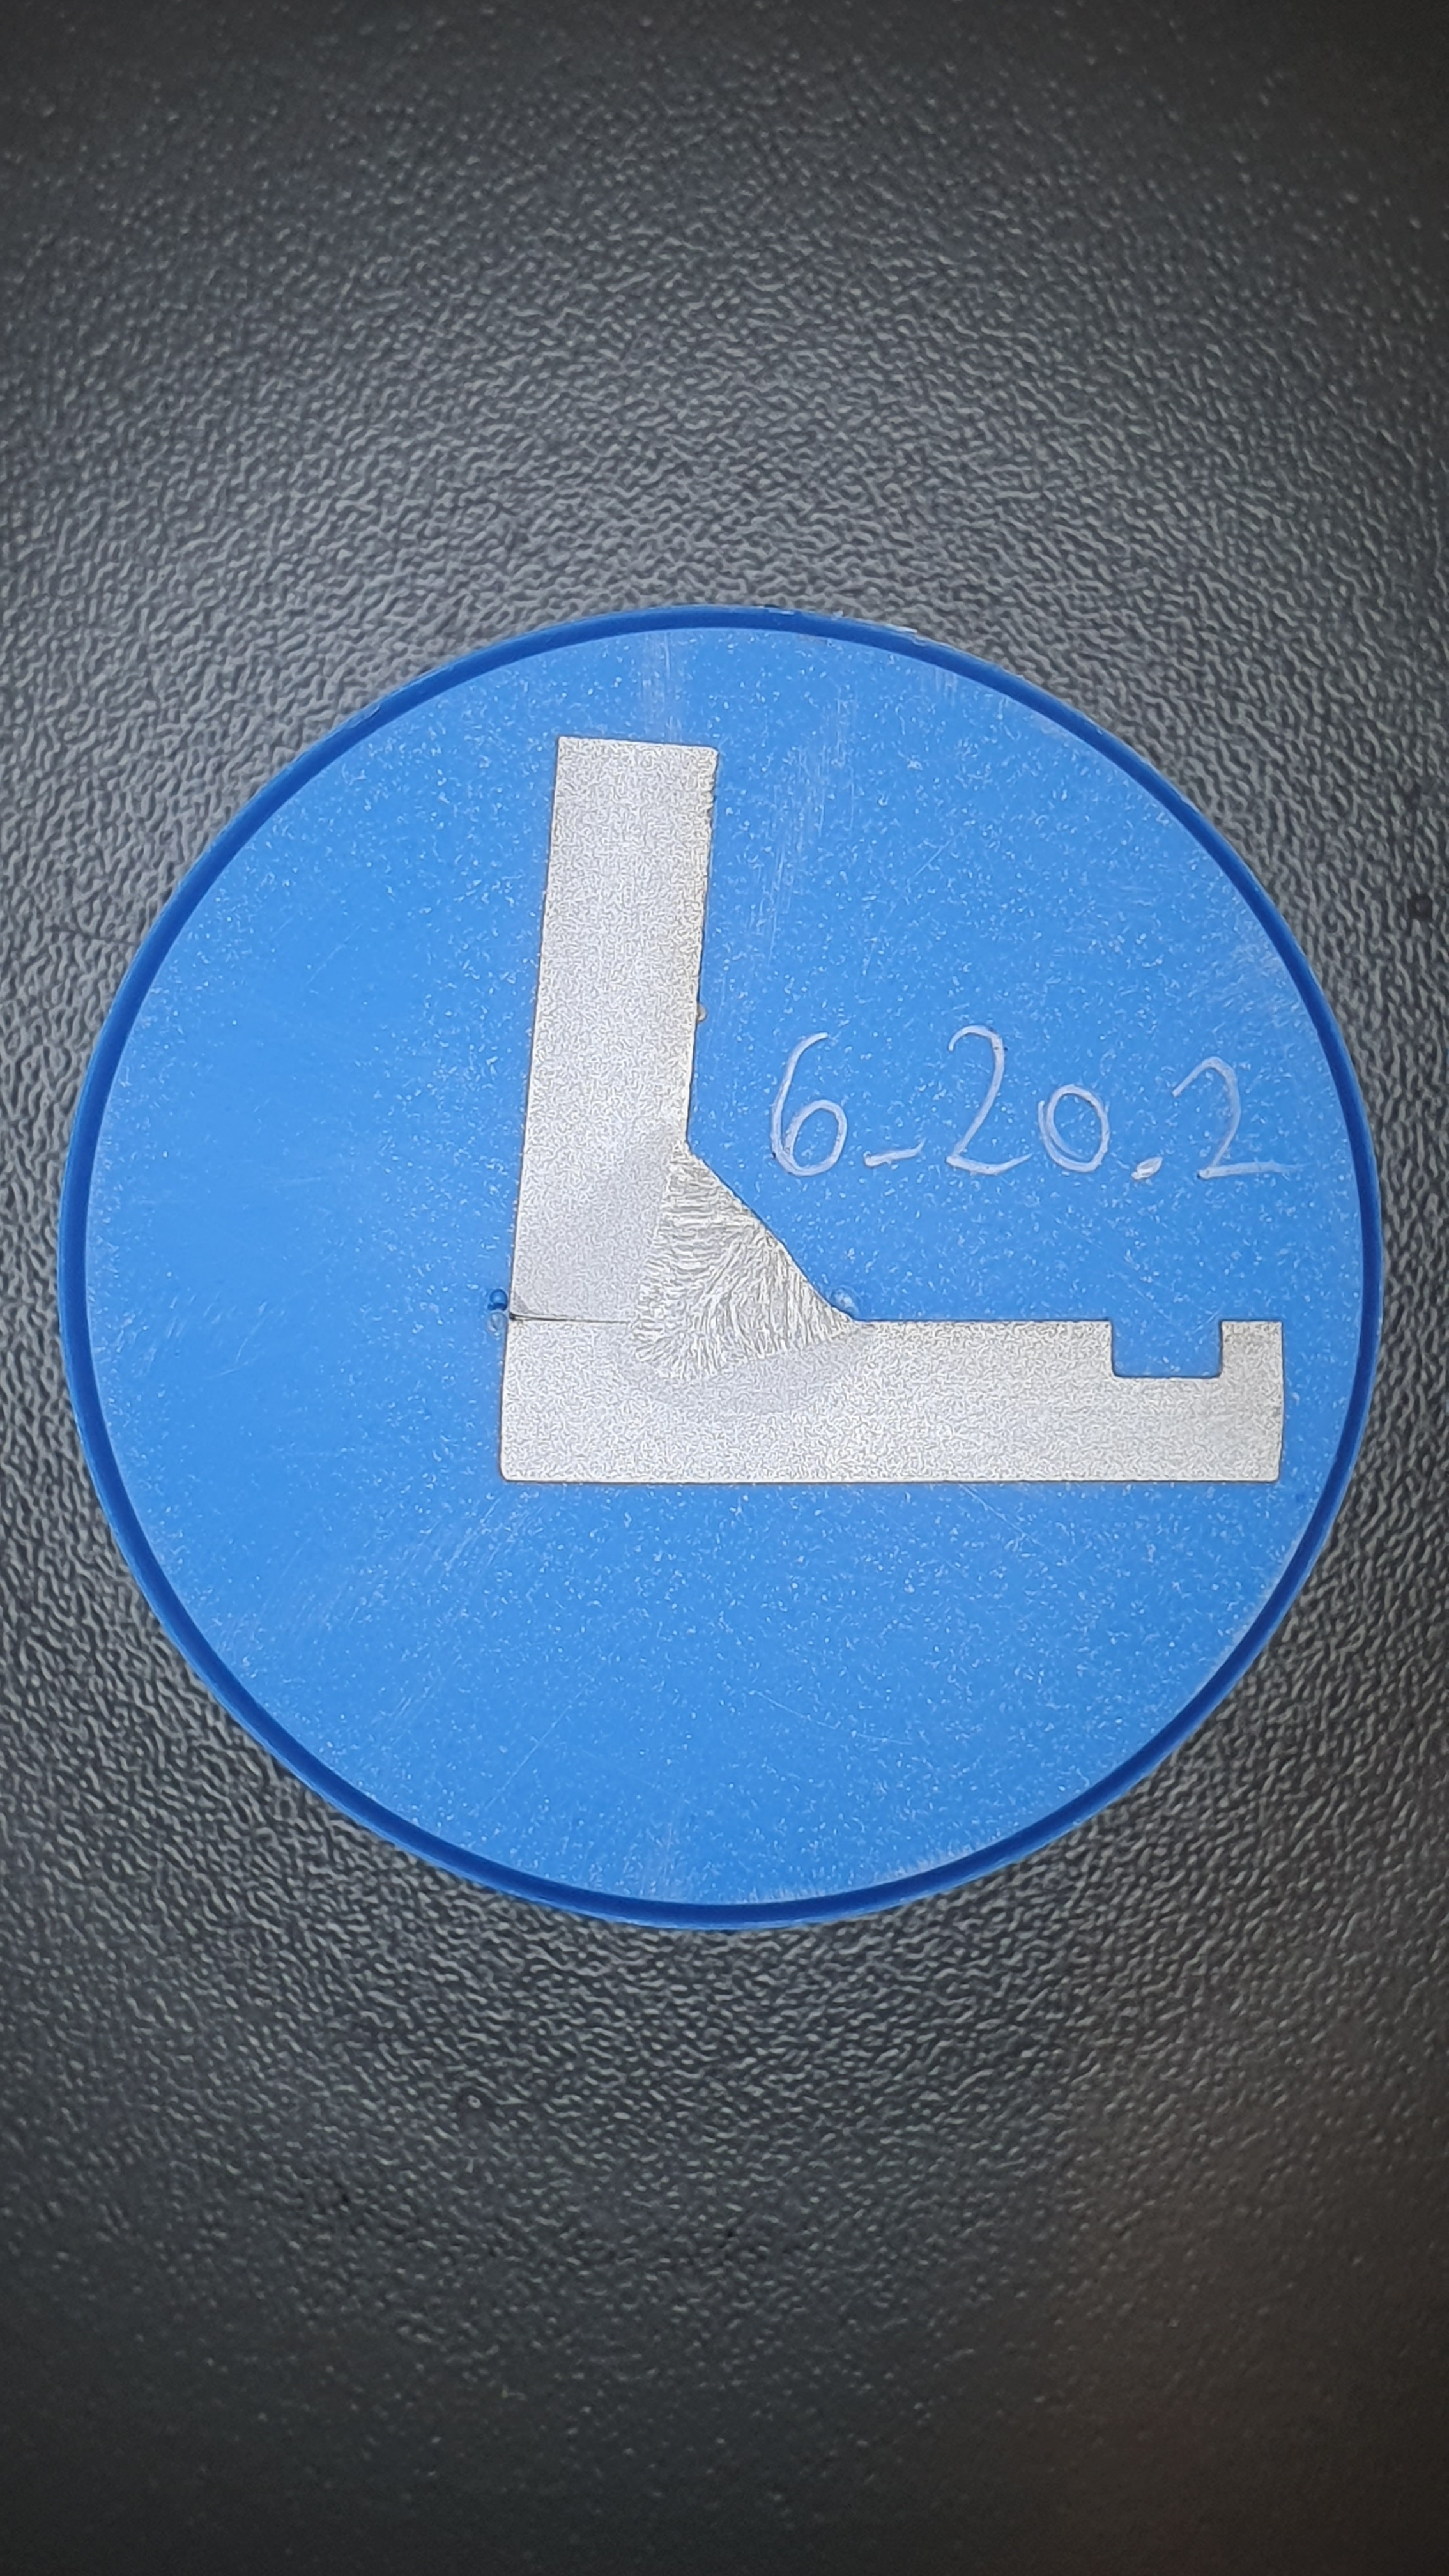Fusion: (628, 1137, 857, 1377)
Hintergrund: (85, 627, 1361, 1905)
Metall: (499, 735, 1284, 1483)
Nebenbereich: (576, 1118, 877, 1418)
